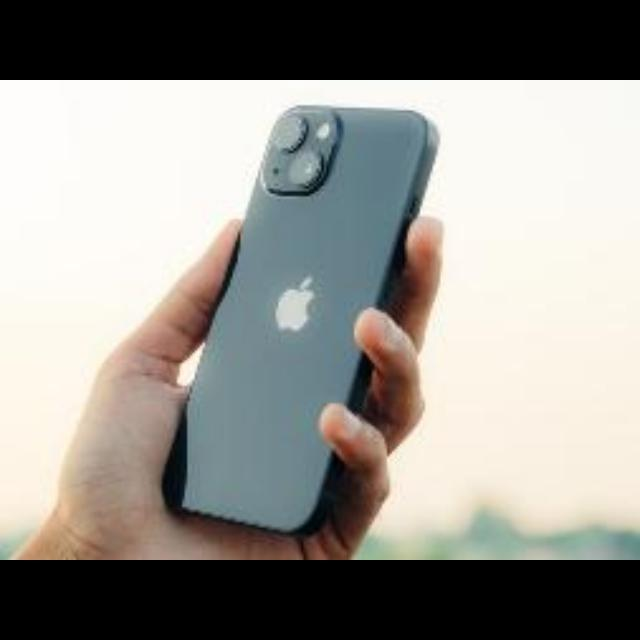Phone: (132, 111, 444, 535)
